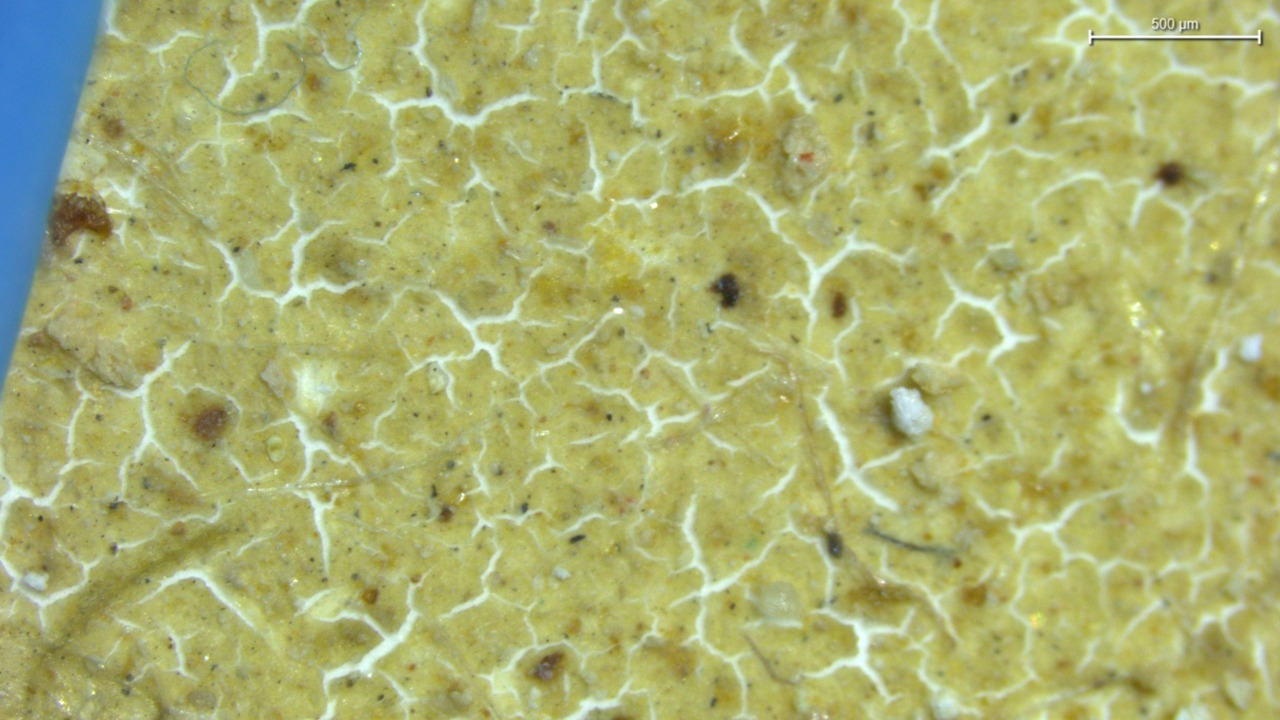microplastic_fragment: (889, 386, 933, 438), (21, 571, 48, 592)
